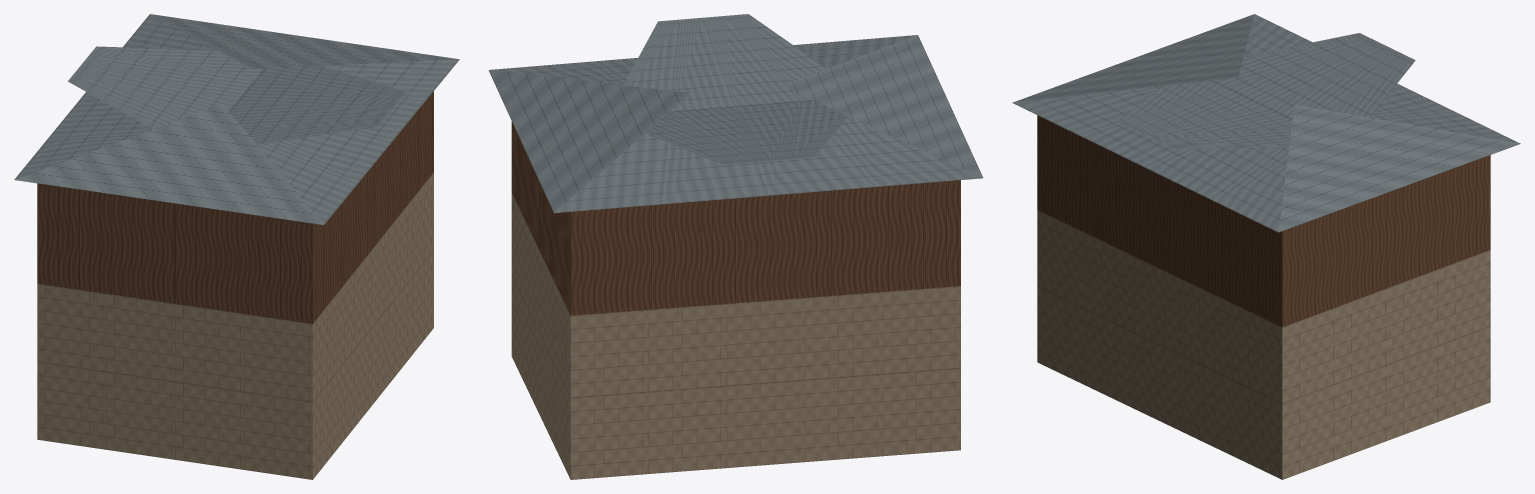
Rendered from bld_c2_-15_677.gltf.
The picture shows the model from 3 angles, left to right: view 1: azimuth 30°, elevation 25°; view 2: azimuth 150°, elevation 25°; view 3: azimuth 270°, elevation 25°; orthographic projection. The views are drawn at different scales.
Visible parts, largest first — view 1: bld_c2_-15_677; view 2: bld_c2_-15_677; view 3: bld_c2_-15_677.
Part boxes in pixels (bbox=[...]): bld_c2_-15_677: bbox=[14, 14, 459, 479]; bld_c2_-15_677: bbox=[488, 14, 983, 479]; bld_c2_-15_677: bbox=[1012, 14, 1520, 479].
Bounding box in the file's own units: 14.5 × 9 × 14.26.
3 materials, 3 textured.
